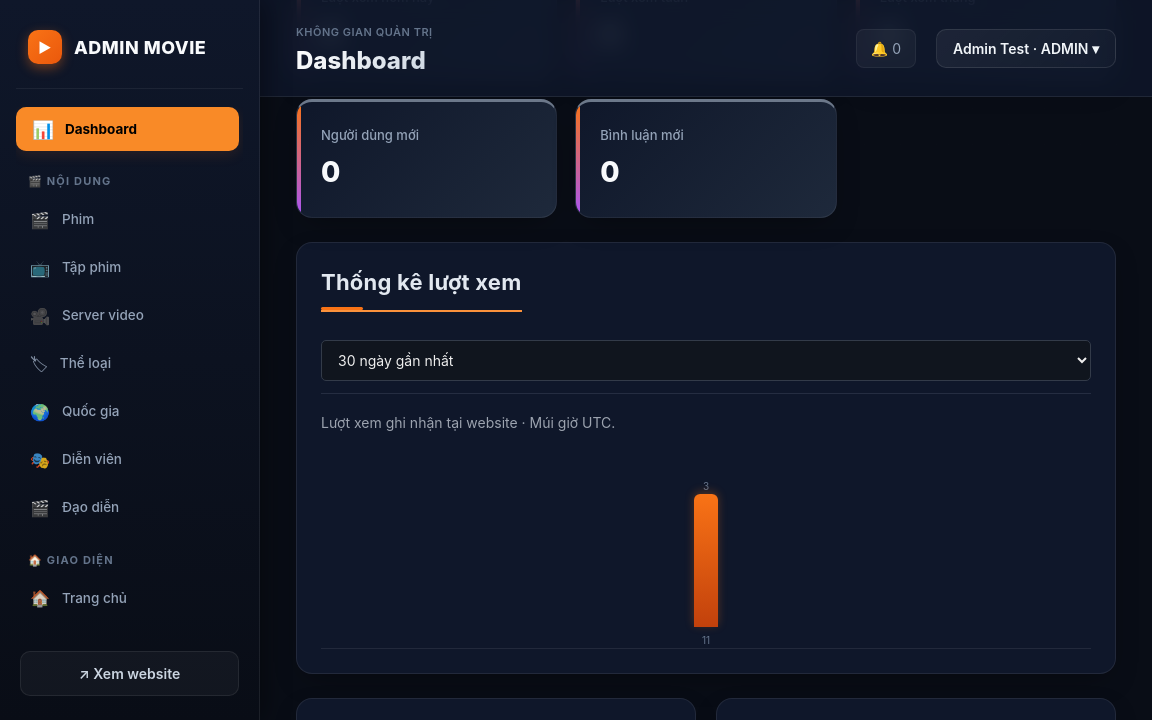
Test: Direct dashboard renders counters and switches to month chart
The width and height of the screenshot is (1152, 720).
(page scrolled)
Select "12 tháng gần nhất" in the dropdown named "Khoảng thống kê" at (706, 360), box [321,340,1091,381]
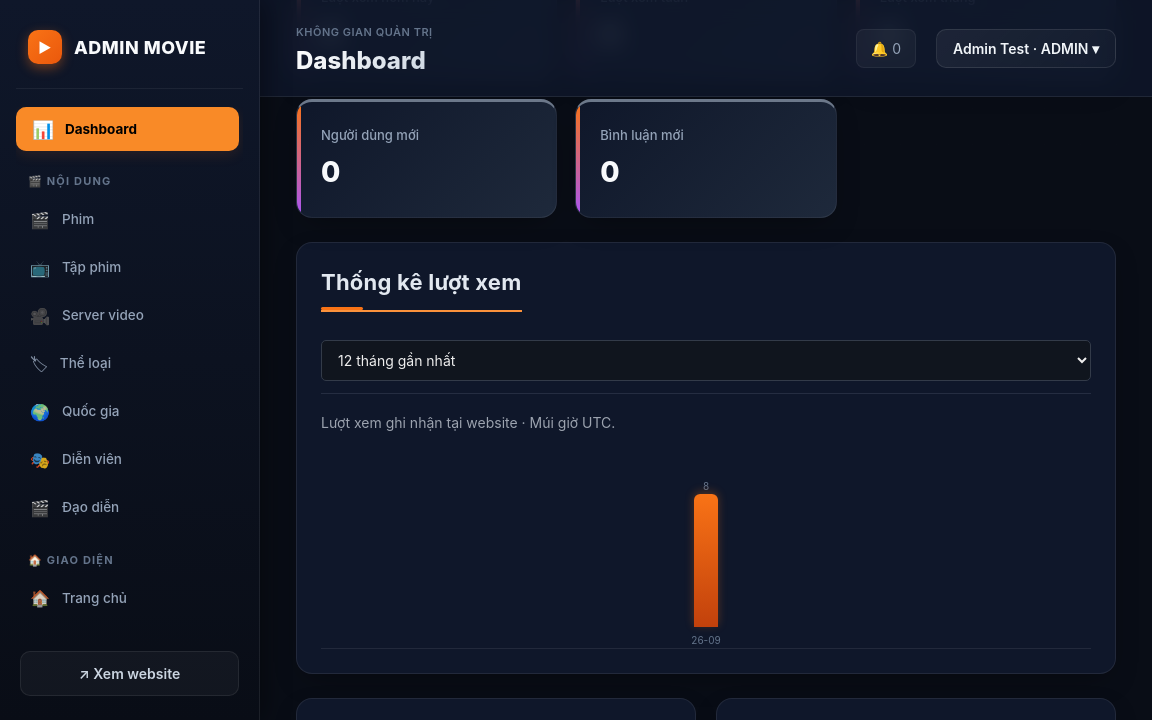
Expected: the picture named "2026-09: 8" is shown, [321,449,1091,649]
